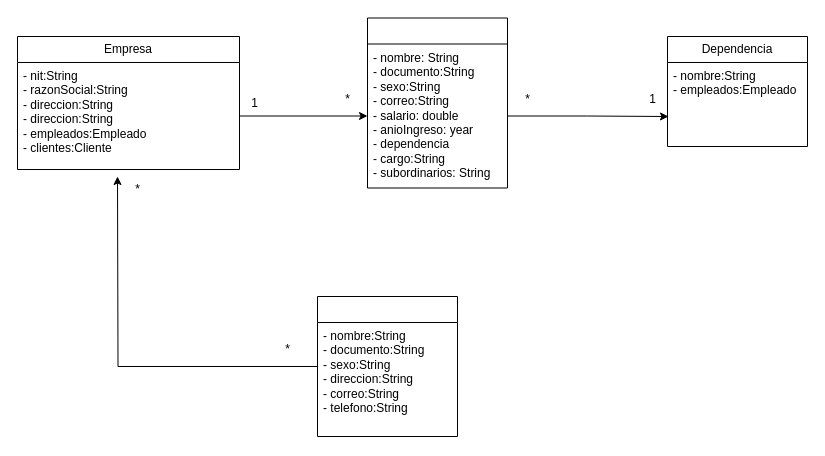
Some shapes in this 825 by 456 pixel diagram are drawn without their labels. Each missing label, with the box of its shape:
Cliente: (316, 296, 458, 436)
Empleado: (366, 17, 508, 188)
